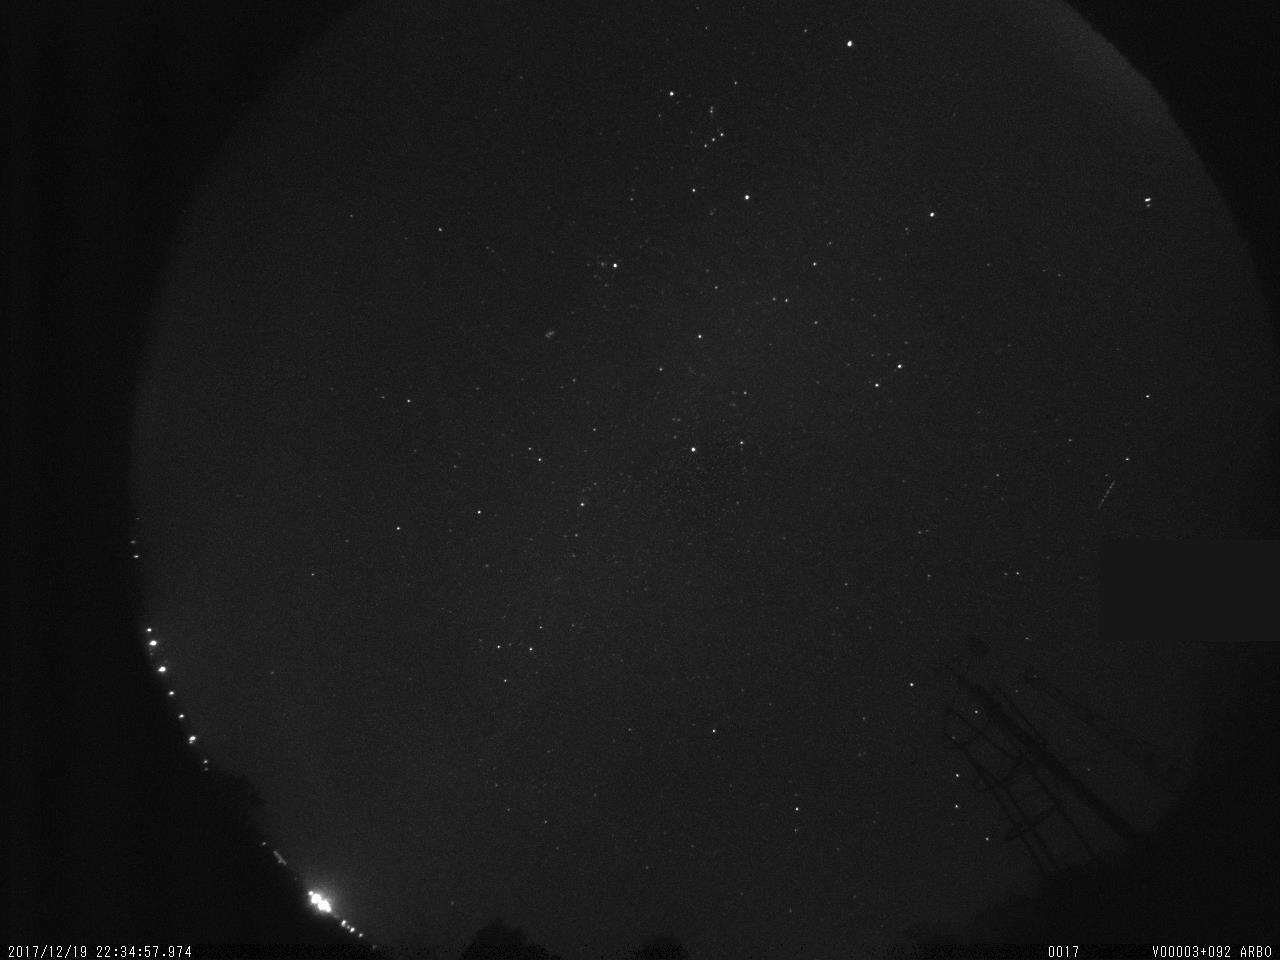meteor: (1084, 473, 1127, 511)
